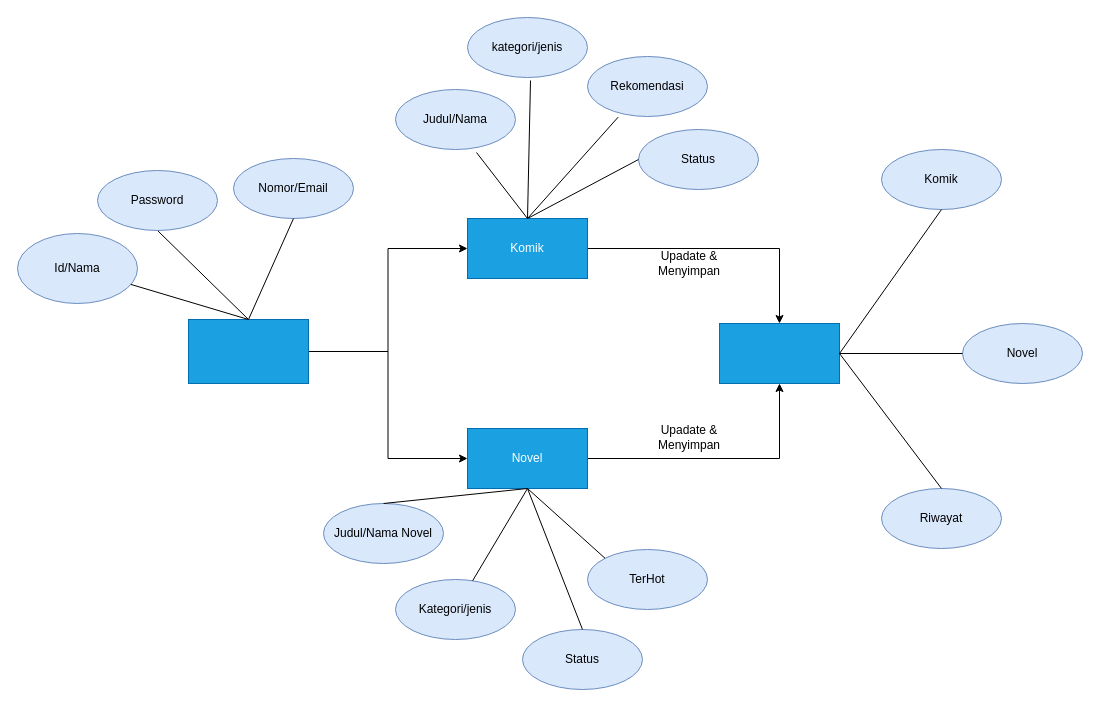
This 1100x707 diagram has some shape labels left out. The shapes that lost their labels are listed below. From the top down, each one's centre as x and y in pixels, then its label:
At point (248, 351): "User".
At point (779, 353): "Library".
